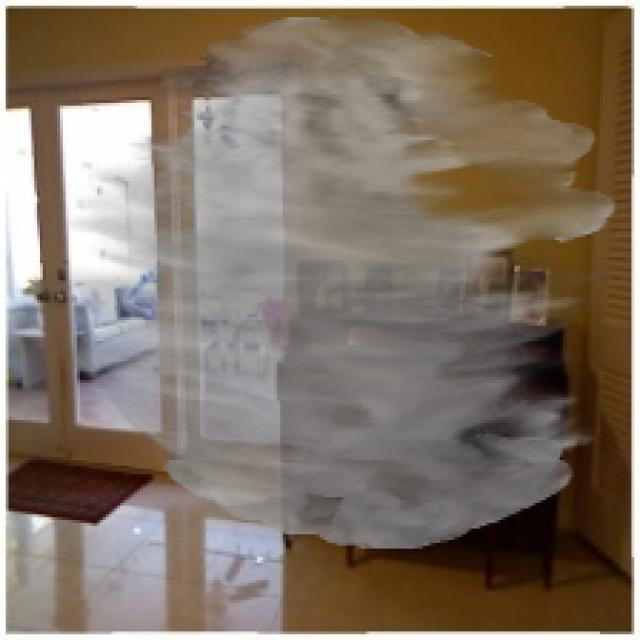Smoke: (62, 14, 618, 549)
